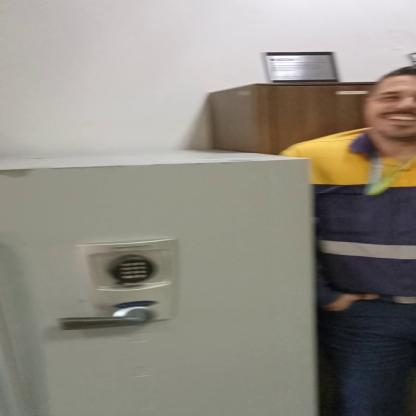Operacional: (279, 124, 416, 304)
